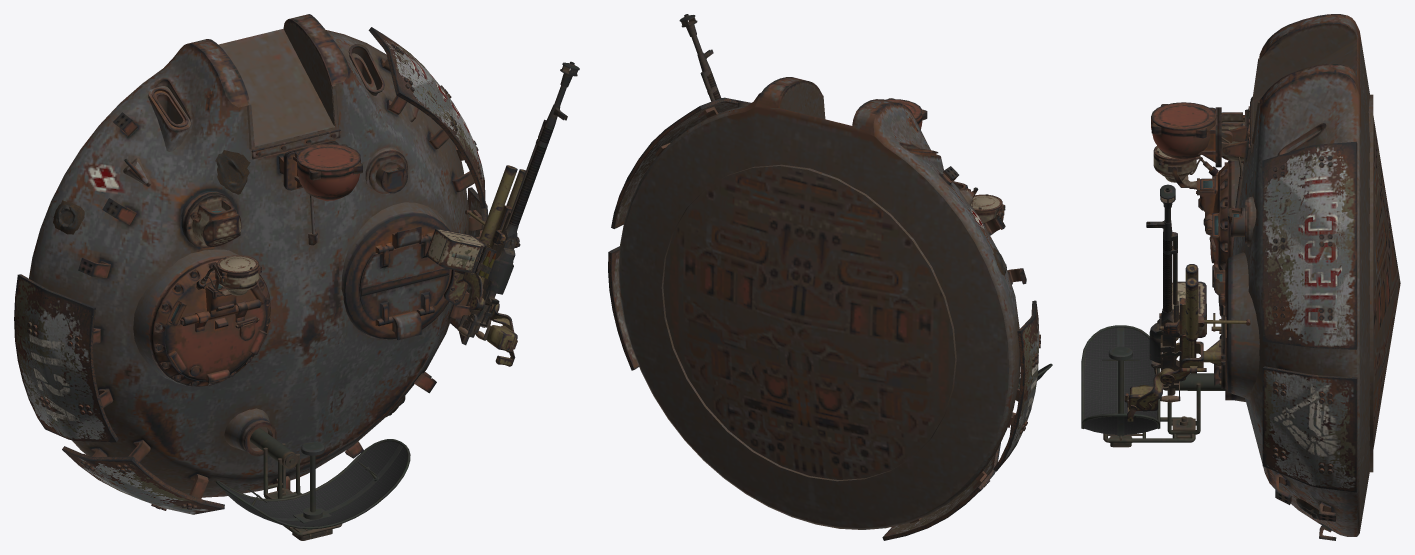
Rendered from Turret_03.glb.
3 renders of one model, left to right at view 1: azimuth 30°, elevation 25°; view 2: azimuth 150°, elevation 25°; view 3: azimuth 270°, elevation 25°, orthographic. The views are drawn at different scales.
Parts seen in each view (by area): view 1: set_0_group_1, set_0_group_0, set_0_group_2, set_0_group_3; view 2: set_0_group_1, set_0_group_0; view 3: set_0_group_1, set_0_group_0, set_0_group_2.
Part boxes in pixels (x1,y1,x2,y2): set_0_group_1: [29, 14, 483, 498]; set_0_group_0: [14, 27, 579, 514]; set_0_group_2: [215, 428, 410, 540]; set_0_group_3: [53, 150, 405, 416]; set_0_group_1: [618, 77, 1026, 529]; set_0_group_0: [608, 14, 1040, 540]; set_0_group_1: [1151, 14, 1400, 540]; set_0_group_0: [1124, 141, 1374, 492]; set_0_group_2: [1081, 325, 1225, 447].
Bounding box in the file's own units: 3.26 × 3.06 × 1.88.
Materials: 4 (4 with a texture image).
